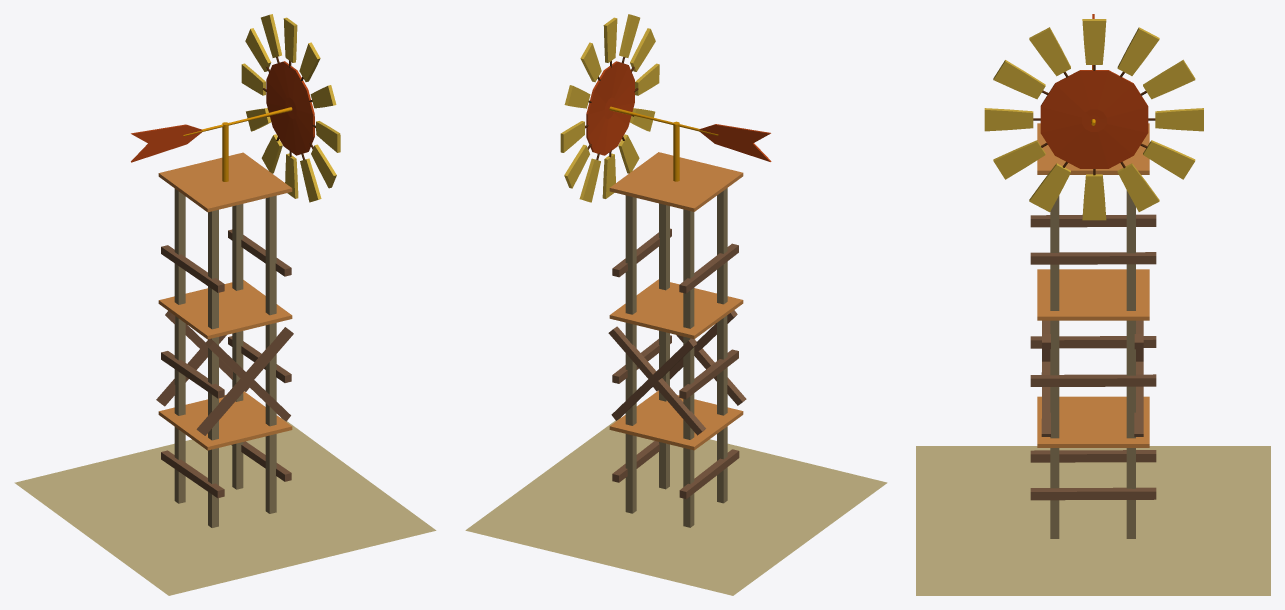
Rendered from windmill.glb.
3 views of the same model, side by side, from view 1: azimuth 30°, elevation 25°; view 2: azimuth 150°, elevation 25°; view 3: azimuth 270°, elevation 25° (orthographic). The views are drawn at different scales.
Visible parts, largest first — view 1: Plane, wings, floor1, floor1.001, floor1.002, wings_Circle, pole3, pole2, pole1, pole4, pole4.003, backArrow (+7 smaller); view 2: Plane, wings, floor1, floor1.001, floor1.002, wings_Circle, pole4, pole2, pole1, pole3, pole4.001, backArrow (+6 smaller); view 3: Plane, wings, wings_Circle, floor1.001, floor1.002, pole4, pole3, pole4.005, pole4.006, pole4.007, floor1, pole4.010 (+4 smaller).
Boxes of the visible parts, left/top/right/bottom form: Plane: left=14, top=418, right=436, bottom=595; wings: left=241, top=14, right=340, bottom=202; floor1: left=158, top=152, right=292, bottom=212; floor1.001: left=158, top=280, right=292, bottom=339; floor1.002: left=158, top=391, right=292, bottom=450; wings_Circle: left=266, top=61, right=314, bottom=155; pole3: left=265, top=195, right=276, bottom=513; pole2: left=174, top=188, right=185, bottom=503; pole1: left=208, top=209, right=218, bottom=527; pole4: left=232, top=204, right=243, bottom=489; pole4.003: left=196, top=327, right=293, bottom=435; backArrow: left=131, top=124, right=202, bottom=162; Plane: left=465, top=418, right=887, bottom=595; wings: left=560, top=14, right=659, bottom=202; floor1: left=609, top=152, right=743, bottom=211; floor1.001: left=609, top=279, right=743, bottom=339; floor1.002: left=609, top=390, right=743, bottom=450; wings_Circle: left=586, top=61, right=634, bottom=155; pole4: left=625, top=195, right=636, bottom=513; pole2: left=683, top=209, right=694, bottom=527; pole1: left=717, top=188, right=727, bottom=503; pole3: left=659, top=203, right=669, bottom=489; pole4.001: left=608, top=326, right=705, bottom=435; backArrow: left=699, top=124, right=771, bottom=161; Plane: left=916, top=446, right=1270, bottom=595; wings: left=984, top=19, right=1203, bottom=220; wings_Circle: left=1040, top=70, right=1148, bottom=168; floor1.001: left=1037, top=269, right=1149, bottom=320; floor1.002: left=1037, top=396, right=1149, bottom=447; pole4: left=1126, top=190, right=1135, bottom=538; pole3: left=1050, top=195, right=1059, bottom=538; pole4.005: left=1030, top=252, right=1156, bottom=264; pole4.006: left=1030, top=374, right=1156, bottom=386; pole4.007: left=1030, top=487, right=1156, bottom=500; floor1: left=1037, top=123, right=1149, bottom=174; pole4.010: left=1030, top=450, right=1156, bottom=462.
Bounding box in the file's own units: 2327 × 3892 × 2327.
